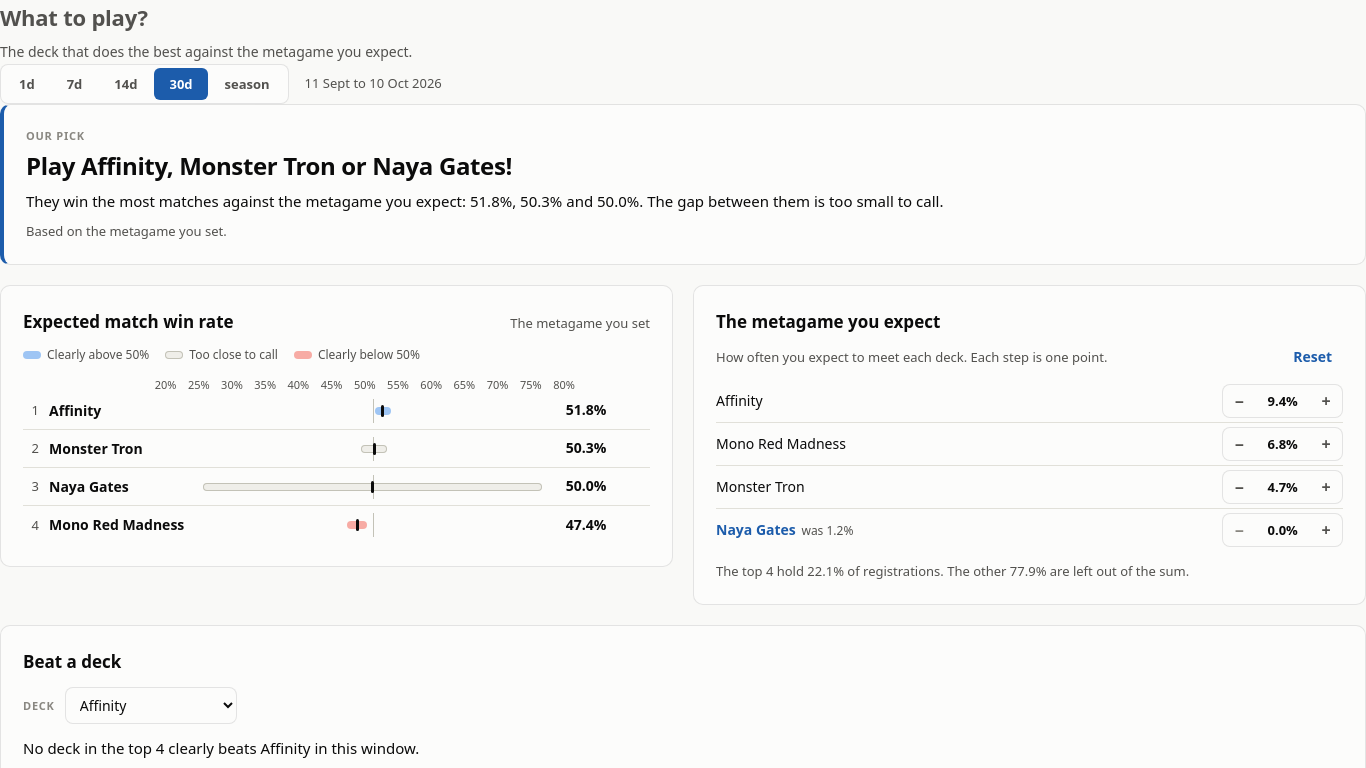
WhatToPlayPage › counts a change past zero as the share rounded up, and writes the counted change at the next press
Check: the text "Based on the metagame you set." is shown, box left=26, top=222, right=227, bottom=240
Check: the text "0.0%" is shown, box left=1268, top=520, right=1298, bottom=538
Click the button named "More Affinity" at [1326, 401], box left=1310, top=385, right=1342, bottom=417
(page scrolled)
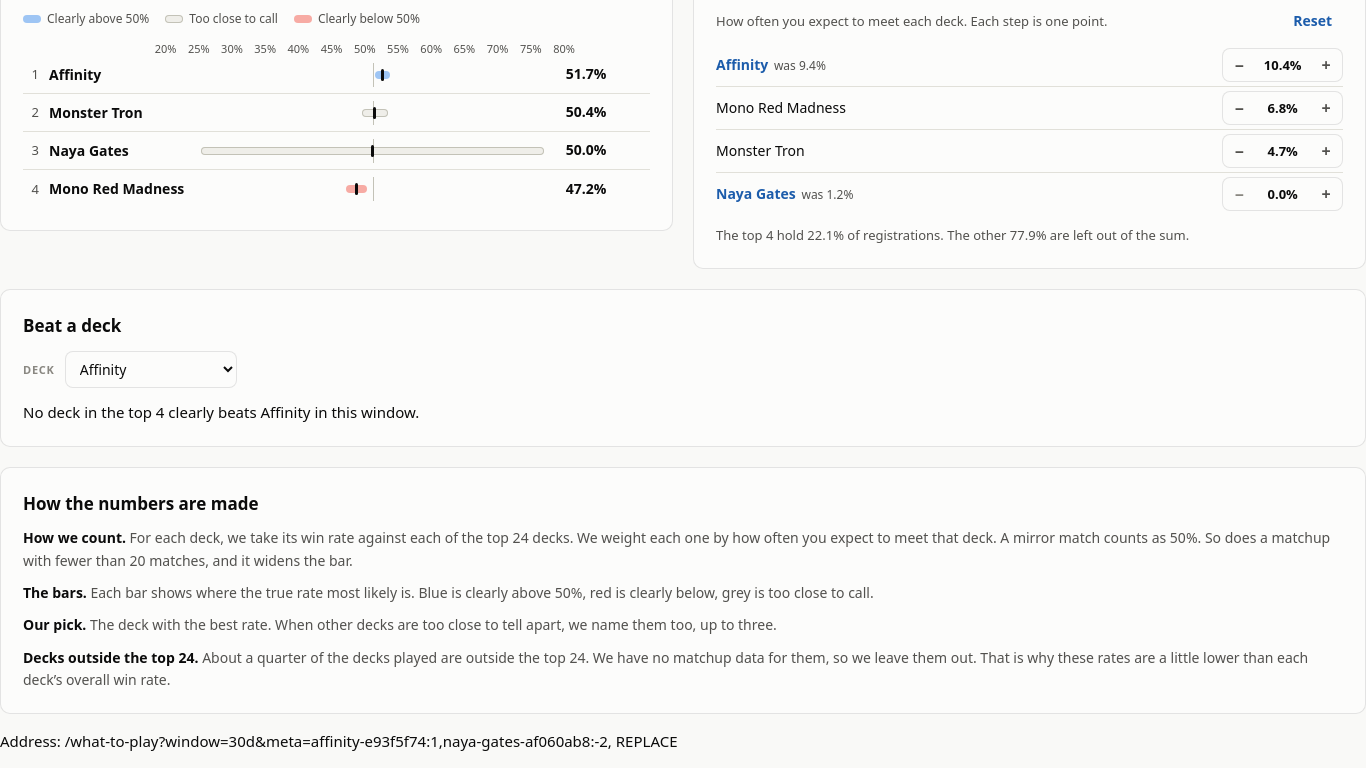
Check: the text "Address: " shows "Address: /what-to-play?window=30d&meta=affinity-e93f5f74:1,naya-gates-af060ab8:-2, REPLACE", box left=0, top=732, right=678, bottom=752
